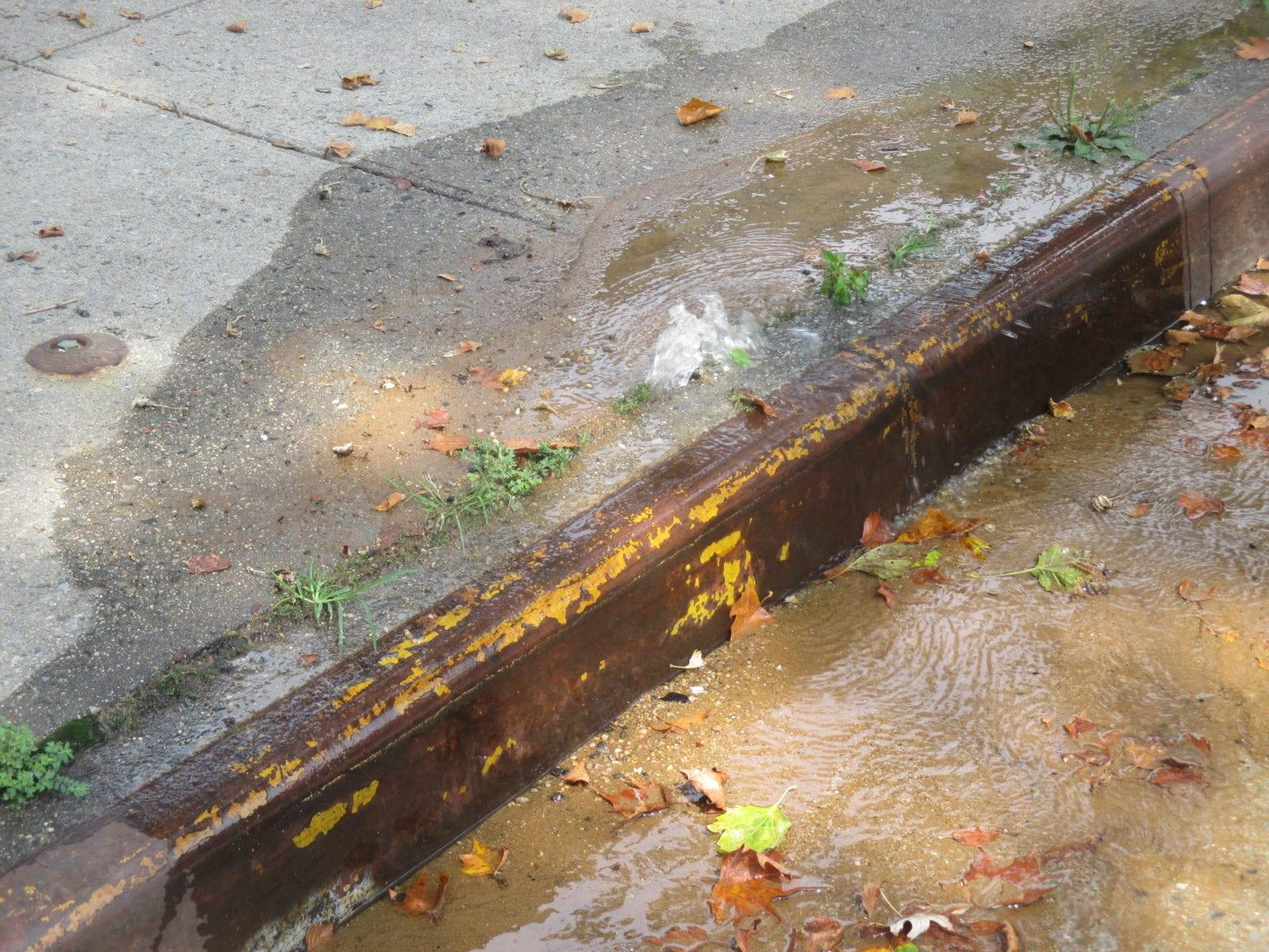water_leak: (545, 71, 1265, 948)
